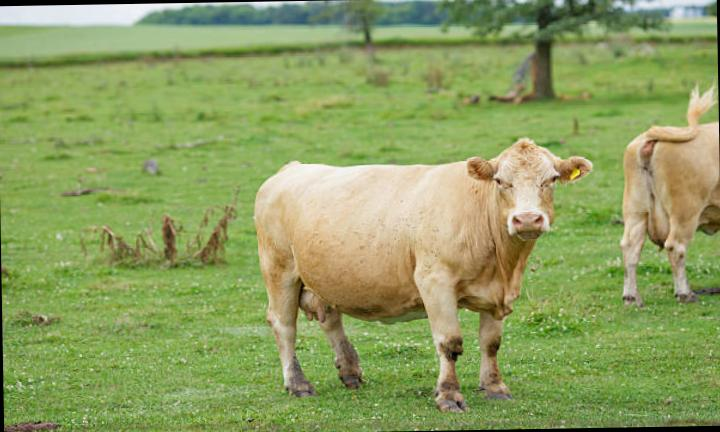Charolais: (256, 140, 592, 410)
